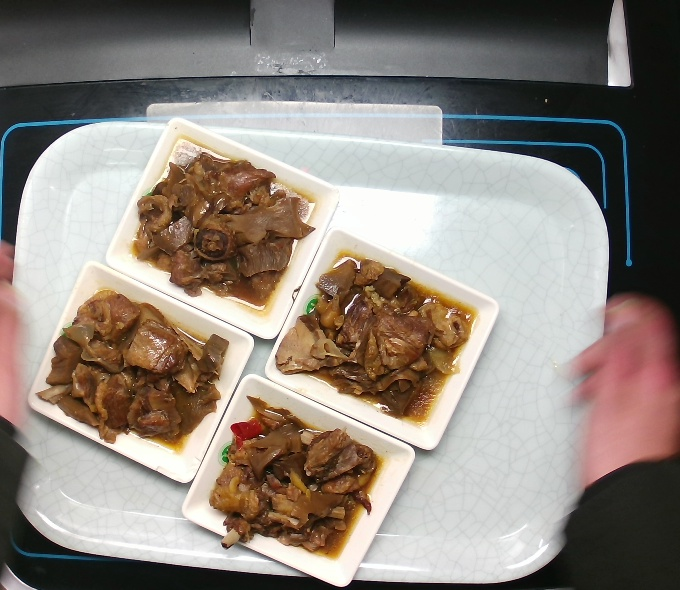wcq-YaRouSunGan: (284, 249, 482, 429), (130, 129, 314, 312), (36, 281, 230, 452), (211, 391, 384, 573)
